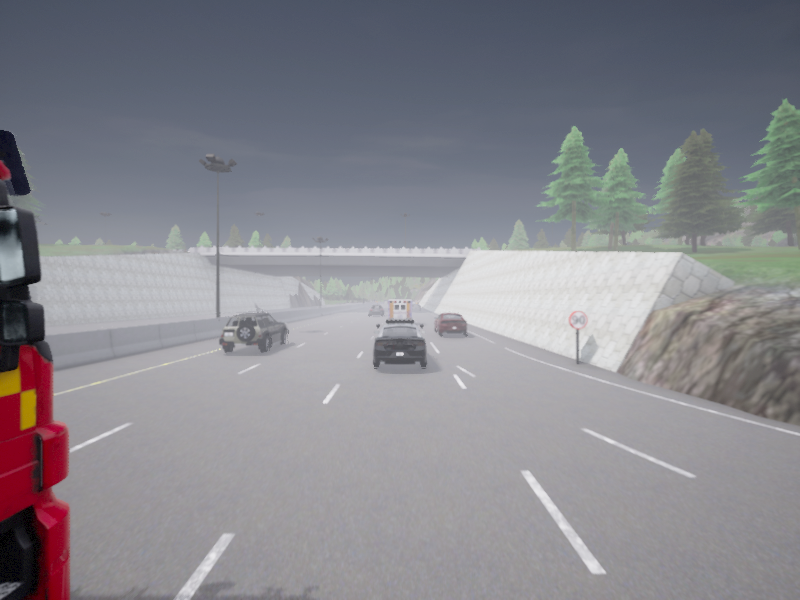vehicle: (0, 128, 70, 599), (219, 311, 288, 352), (373, 319, 426, 367), (434, 313, 466, 335), (388, 300, 411, 323), (369, 305, 384, 315), (412, 303, 420, 310)
